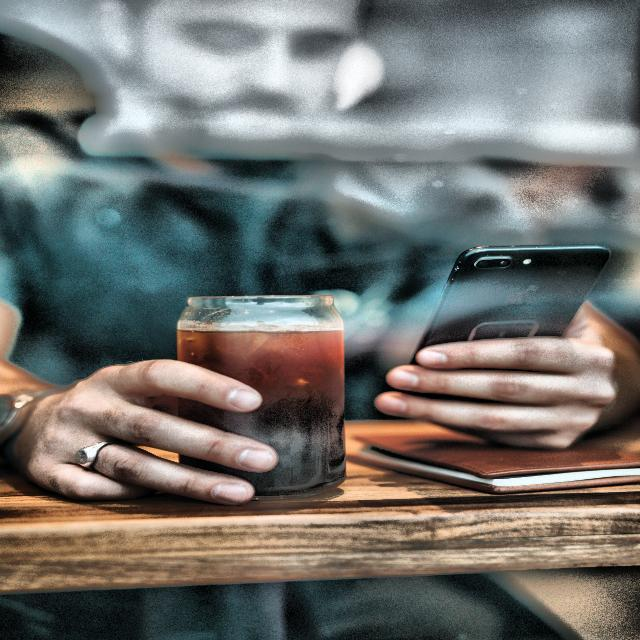Phone: (404, 245, 612, 372)
